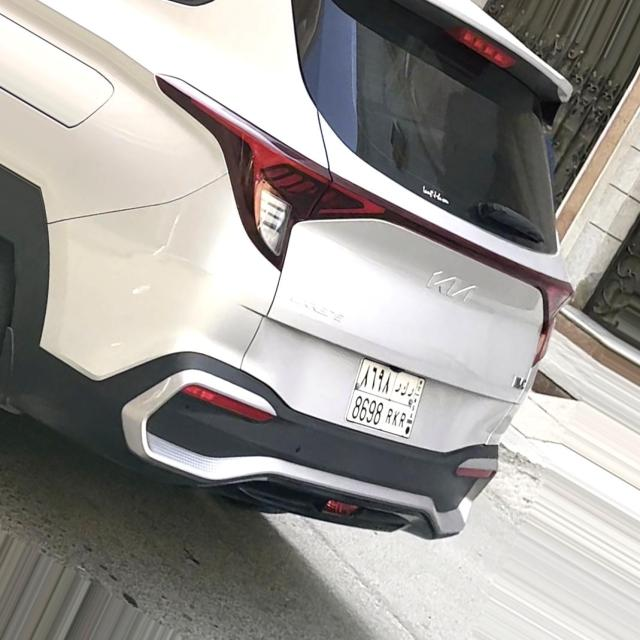Car-plate: (328, 350, 444, 449)
